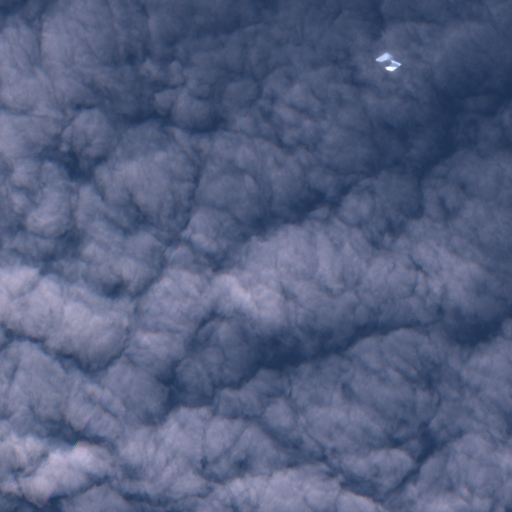Iceberg: (375, 52, 401, 71)
